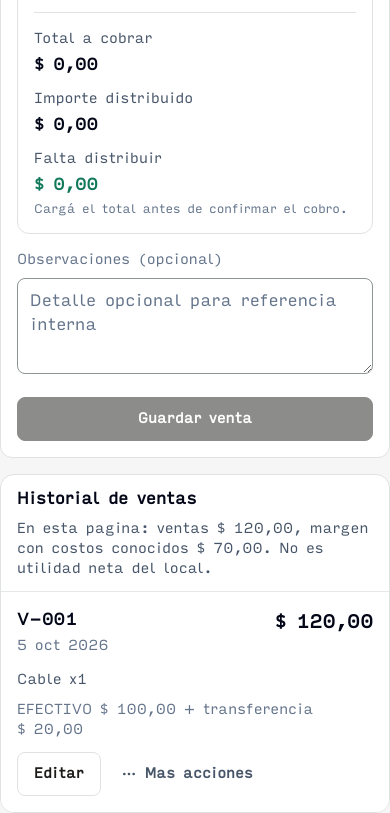
Test: preserves split payments, date and cart when editing a recorded sale
(page scrolled)
Click the button "Editar": {"x": 59, "y": 774} top-left (17, 752), bottom-right (101, 796)
(page scrolled)
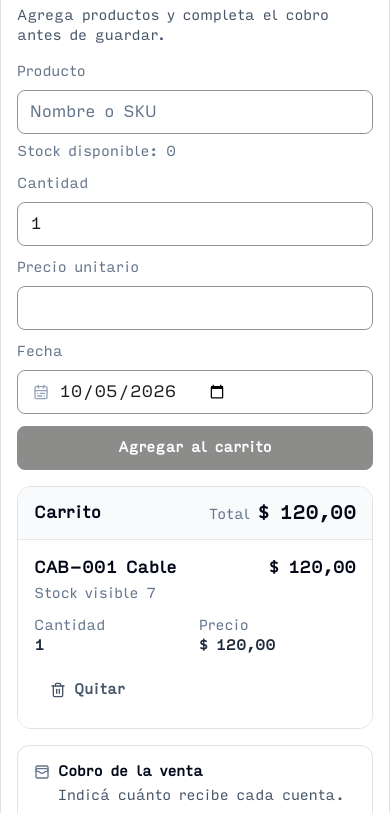
Expected: the date field labelled "Fecha" holds "2026-10-05", top-left (17, 370), bottom-right (373, 414)
